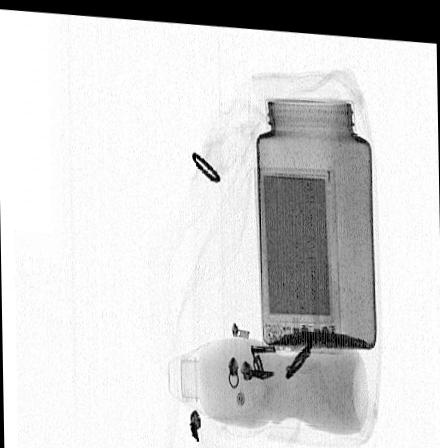Powerbank: (253, 161, 341, 347)
